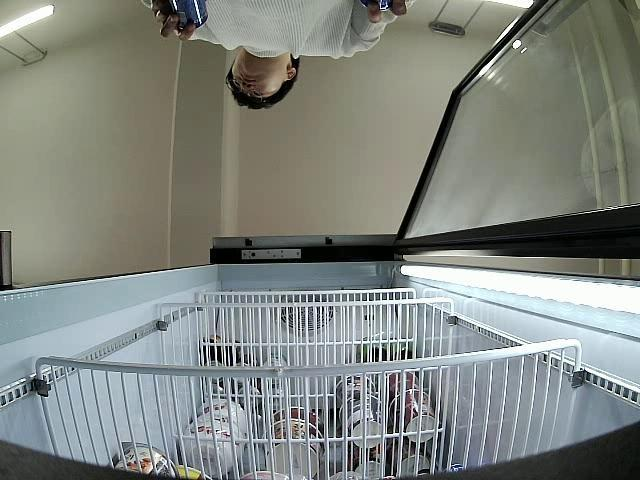16_hot6: (165, 0, 210, 29)
